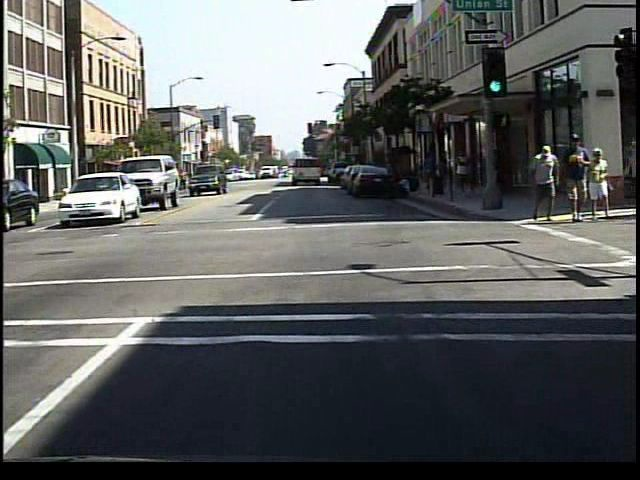person: (527, 142, 563, 230), (561, 130, 590, 226), (583, 145, 611, 228), (448, 146, 475, 201), (176, 168, 193, 196)
